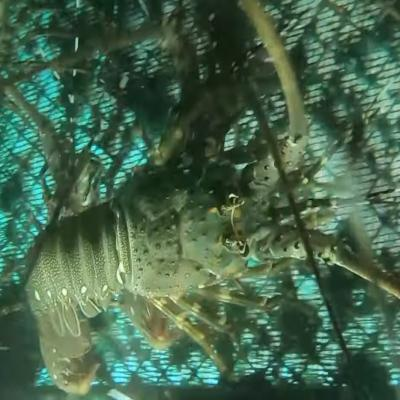lobster: (23, 120, 294, 335)
